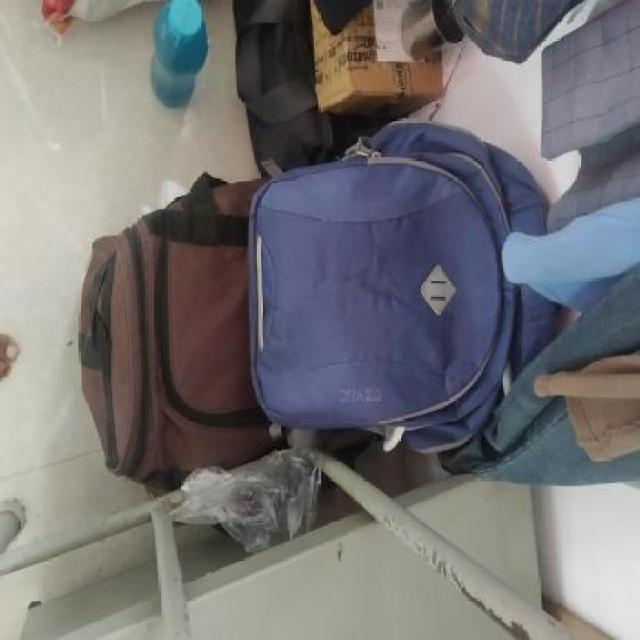backpack: (244, 112, 562, 460), (74, 166, 246, 502)
